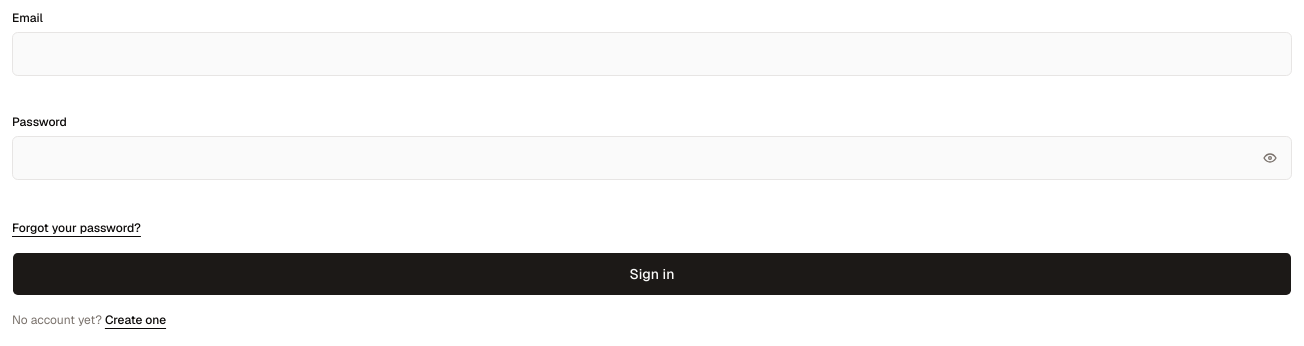
Test: SignInForm › checks the address before it asks the server anything
The image size is (1304, 346).
Type "eater" into the field labelled "Email" at (652, 54), box [12,32,1292,76]
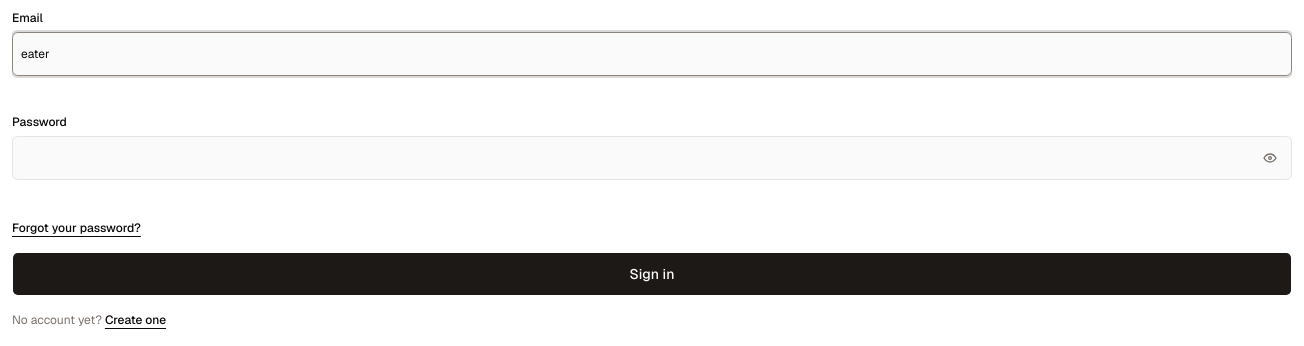
Click the button "Sign in" at (652, 274), box [12,252,1292,296]
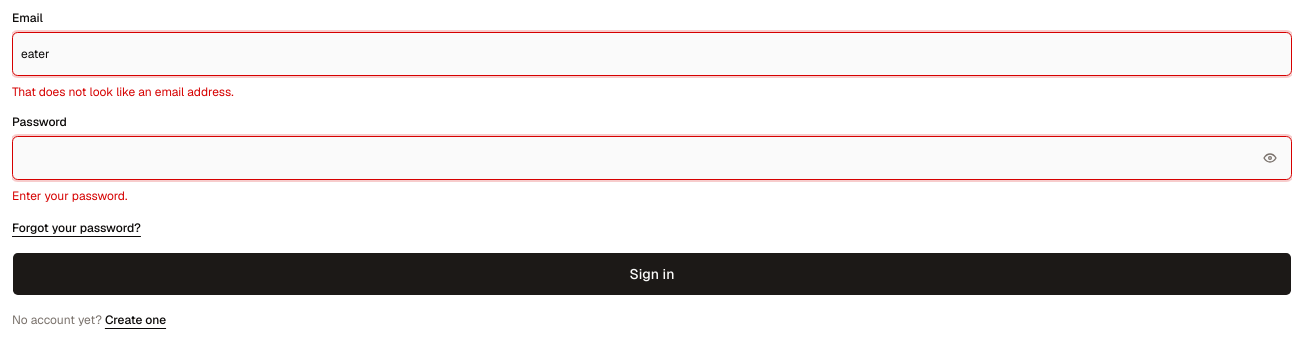
Result: the text "That does not look like an email address." is shown at [12,84,234,100]
Result: the text "Enter your password." is shown at [12,188,127,204]
